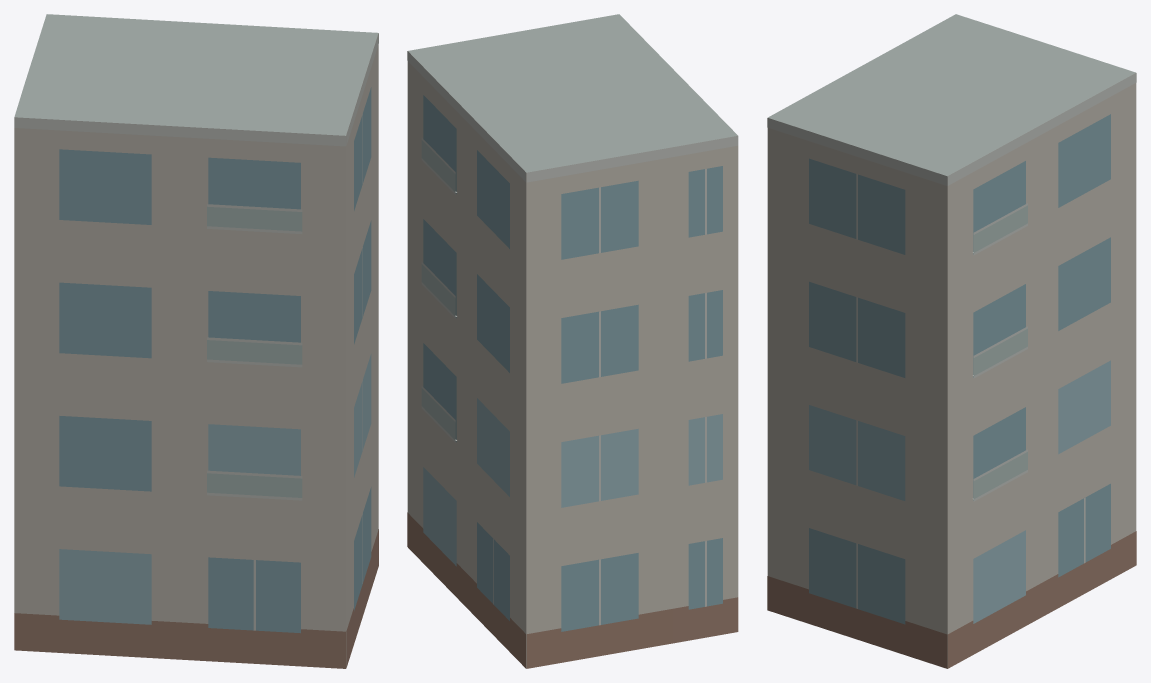
The model's file is residential-855c8257-d798-43ca-856a-5f949711b6eb.glb.
3 views of the same model, side by side, from view 1: azimuth 30°, elevation 25°; view 2: azimuth 150°, elevation 25°; view 3: azimuth 270°, elevation 25° (orthographic). The views are drawn at different scales.
Visible parts, largest first — view 1: residential-855c8257-d798-43ca-856a-5f949711b6eb.tmp; view 2: residential-855c8257-d798-43ca-856a-5f949711b6eb.tmp; view 3: residential-855c8257-d798-43ca-856a-5f949711b6eb.tmp.
Part boxes in pixels (x1=…): residential-855c8257-d798-43ca-856a-5f949711b6eb.tmp: x1=14, y1=14, x2=378, y2=668; residential-855c8257-d798-43ca-856a-5f949711b6eb.tmp: x1=407, y1=14, x2=738, y2=668; residential-855c8257-d798-43ca-856a-5f949711b6eb.tmp: x1=767, y1=14, x2=1136, y2=668.
Size of the model in its own units: 8.63 by 12.2 by 8.29.
